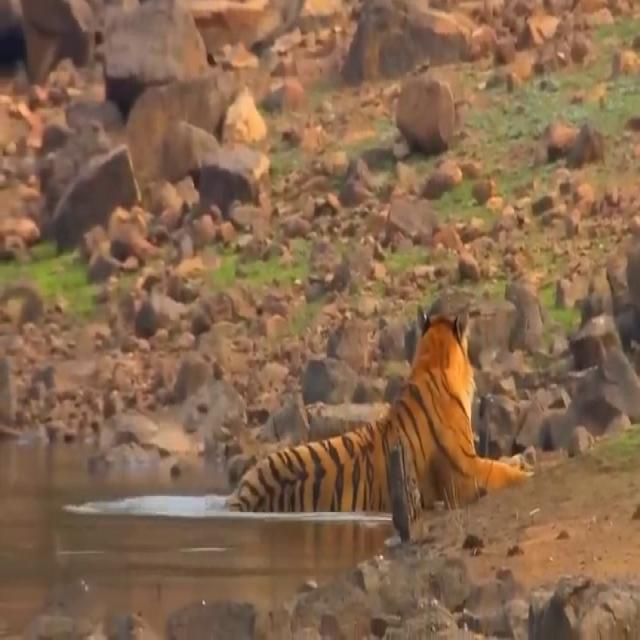tiger: (225, 304, 532, 515)
